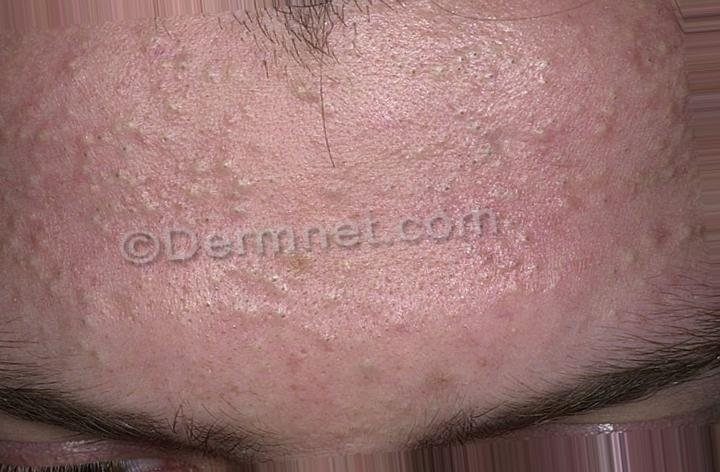Acne: (464, 117, 647, 169), (2, 221, 85, 313), (471, 244, 585, 306), (184, 139, 255, 227), (217, 286, 326, 339), (54, 47, 120, 112)
